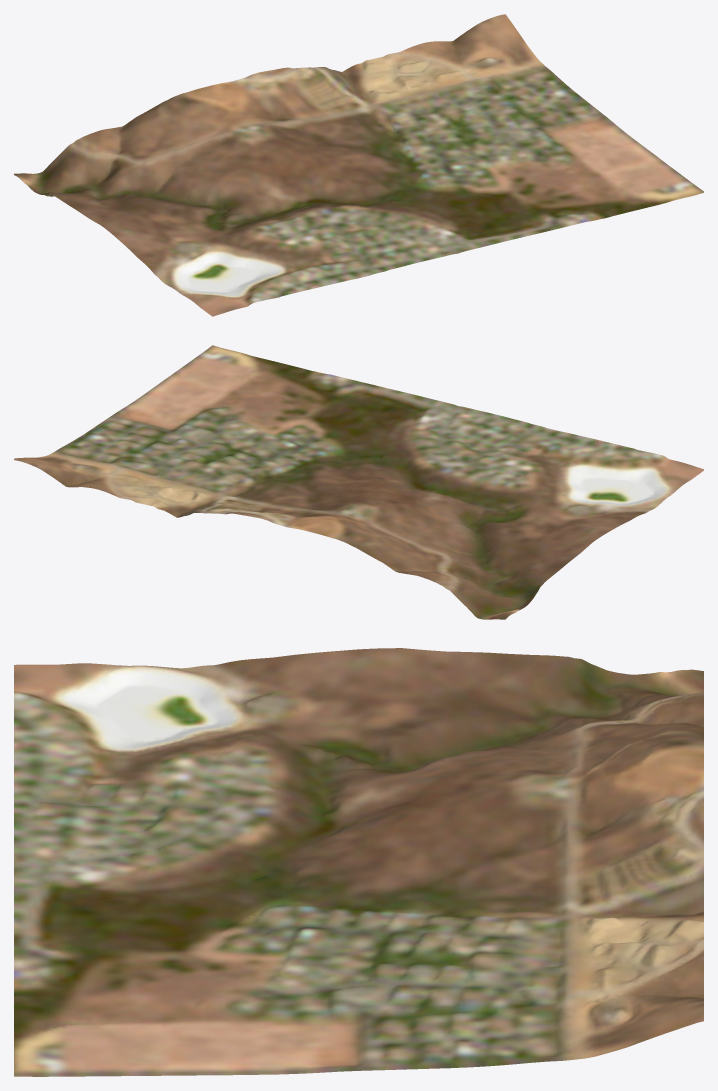
File: terrain_r2_c3.glb
3 views of the same model, one above another, from view 1: azimuth 30°, elevation 25°; view 2: azimuth 150°, elevation 25°; view 3: azimuth 270°, elevation 25° (orthographic). The views are drawn at different scales.
Parts seen in each view (by area): view 1: terrain_r2_c3_lod0; view 2: terrain_r2_c3_lod0; view 3: terrain_r2_c3_lod0.
Boxes of the visible parts, box(x1,y1,x2,y2) form: terrain_r2_c3_lod0: box(14, 14, 703, 316); terrain_r2_c3_lod0: box(14, 345, 703, 619); terrain_r2_c3_lod0: box(14, 648, 703, 1076).
Size of the model in its own units: 1125 by 106 by 787.
Materials: 1 (1 with a texture image).
